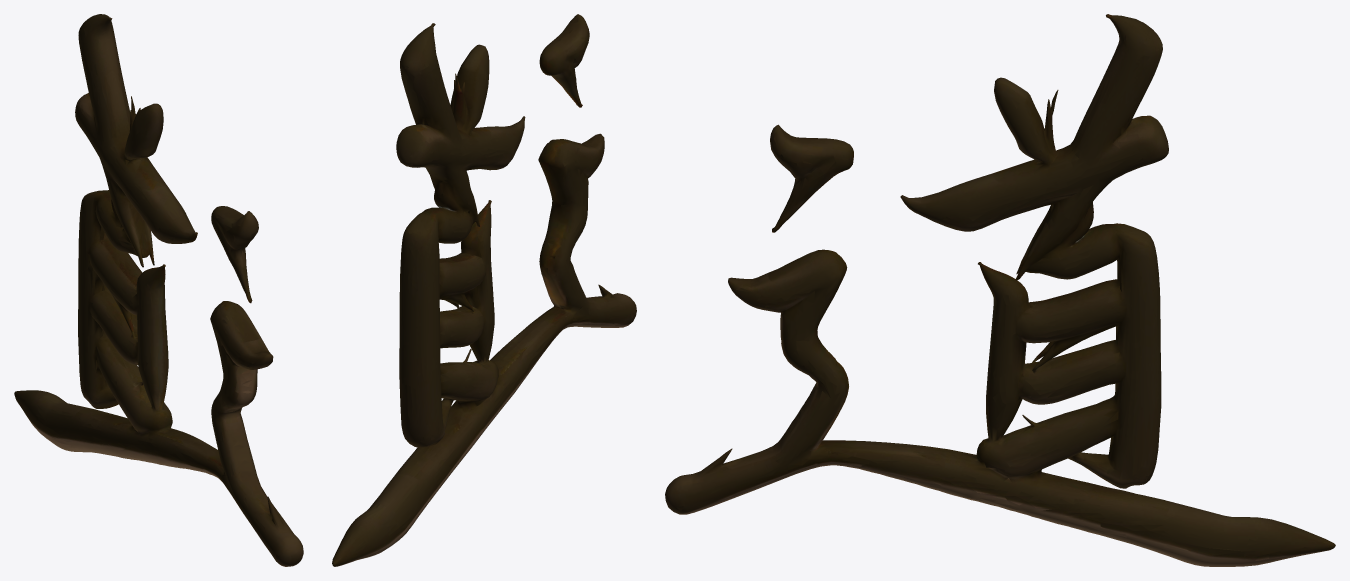
3 views of the same model, side by side, from view 1: azimuth 30°, elevation 25°; view 2: azimuth 150°, elevation 25°; view 3: azimuth 270°, elevation 25° (orthographic). The views are drawn at different scales.
Parts seen in each view (by area): view 1: tripo_node_8f53177a-15ce-42a0-85bd-ac6cc75dcf4d; view 2: tripo_node_8f53177a-15ce-42a0-85bd-ac6cc75dcf4d; view 3: tripo_node_8f53177a-15ce-42a0-85bd-ac6cc75dcf4d.
Part boxes in pixels (<box>): tripo_node_8f53177a-15ce-42a0-85bd-ac6cc75dcf4d: <box>14,14,303,566</box>; tripo_node_8f53177a-15ce-42a0-85bd-ac6cc75dcf4d: <box>332,14,636,566</box>; tripo_node_8f53177a-15ce-42a0-85bd-ac6cc75dcf4d: <box>665,14,1335,566</box>.
Bounding box in the file's own units: 0.0717 × 0.9064 × 1.
1 material, 1 textured.
